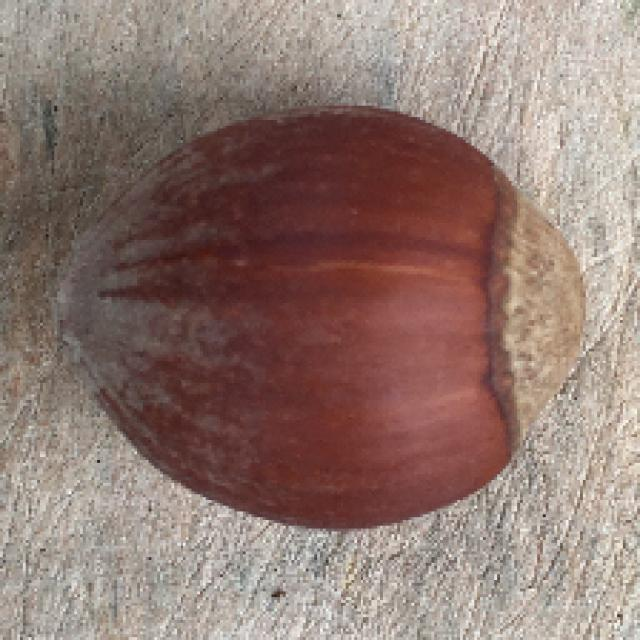qualityHazelnut: (40, 102, 593, 533)
